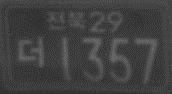1: (59, 35, 74, 84)
2: (88, 10, 106, 34)
3: (82, 35, 106, 82)
5: (106, 37, 133, 84)
7: (133, 37, 159, 85)
9: (106, 10, 124, 35)
더: (16, 34, 47, 70)
전북_O: (45, 9, 87, 32)
